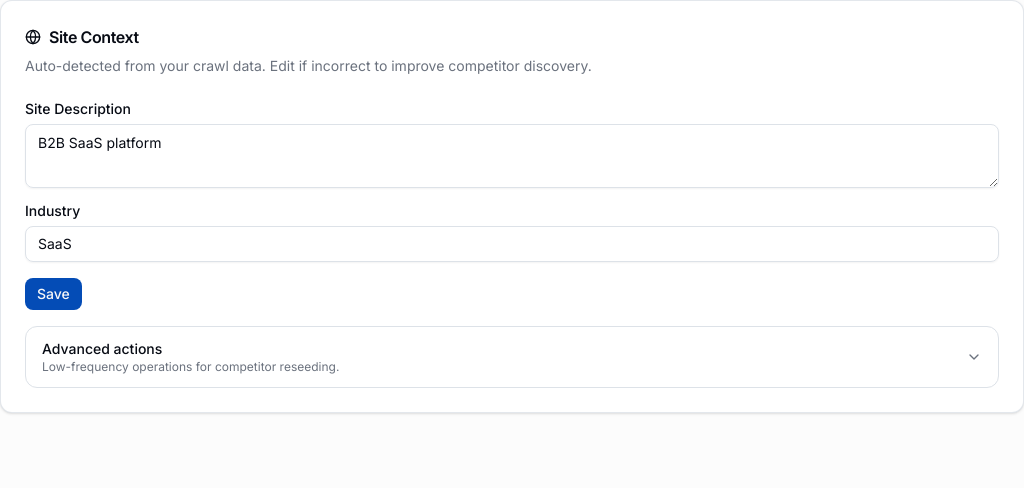
Test: SiteContextSection advanced actions › reveals rediscover action when advanced panel is opened
Click the button "Advanced actions" at (102, 348), box x1=26 y1=327 x2=998 y2=387
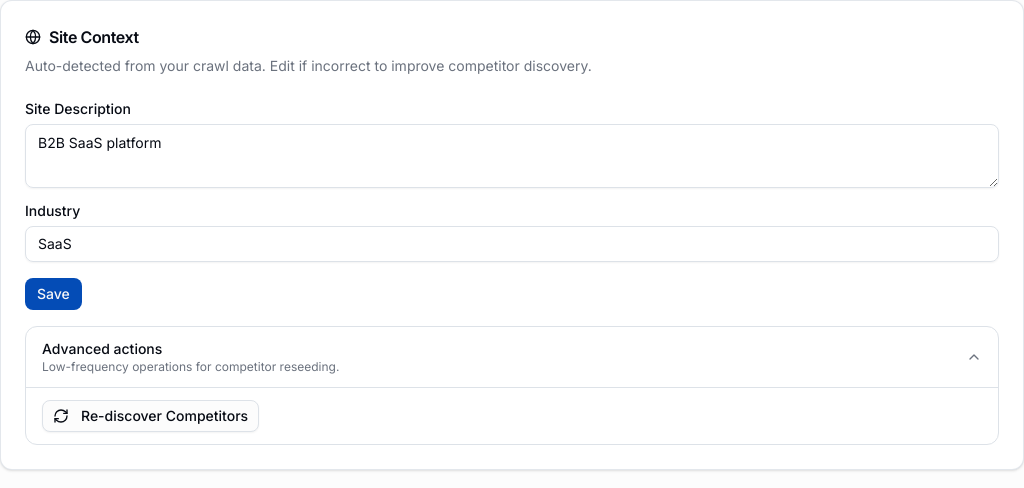
Expected: the button "Advanced actions" is expanded, x1=26 y1=327 x2=998 y2=387
Expected: the button "Re-discover Competitors" is shown, x1=42 y1=400 x2=259 y2=432
